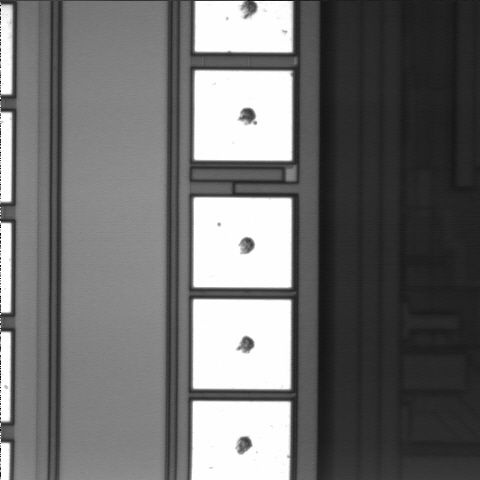pad: (193, 197, 292, 288), (194, 70, 292, 161), (193, 299, 291, 389)
